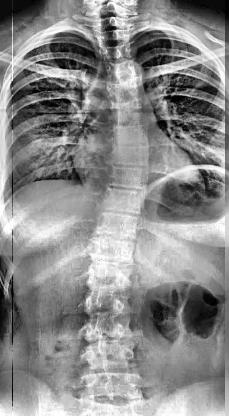Vertebrae: (87, 366, 143, 398), (82, 343, 142, 369), (104, 186, 152, 218), (88, 237, 142, 265), (98, 209, 146, 240), (81, 318, 137, 344), (84, 289, 132, 318), (88, 264, 138, 288), (112, 164, 152, 188), (115, 145, 155, 169), (114, 124, 152, 146), (112, 106, 150, 127), (104, 64, 142, 84), (106, 86, 148, 104), (102, 46, 136, 60), (99, 29, 132, 43)
